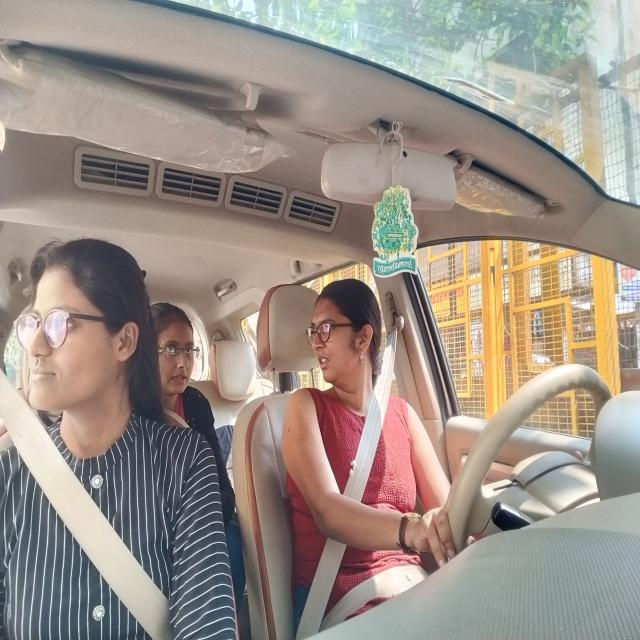LeftRight: (302, 279, 388, 400)
person: (20, 235, 150, 414), (154, 298, 201, 398)
talking: (313, 347, 337, 373)
